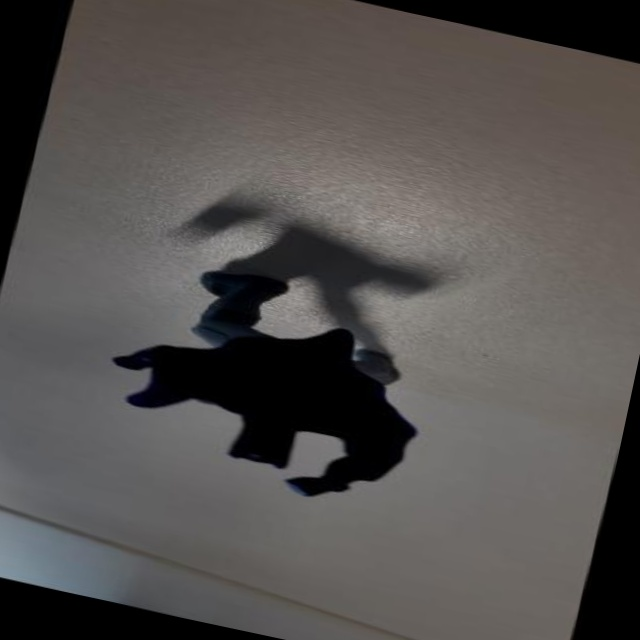Batman: (73, 244, 465, 522)
